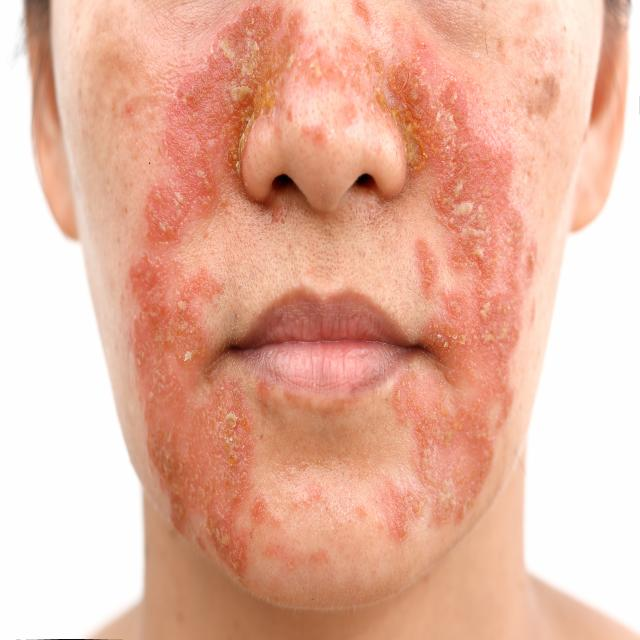eczema: (348, 8, 528, 529), (132, 38, 281, 576)
